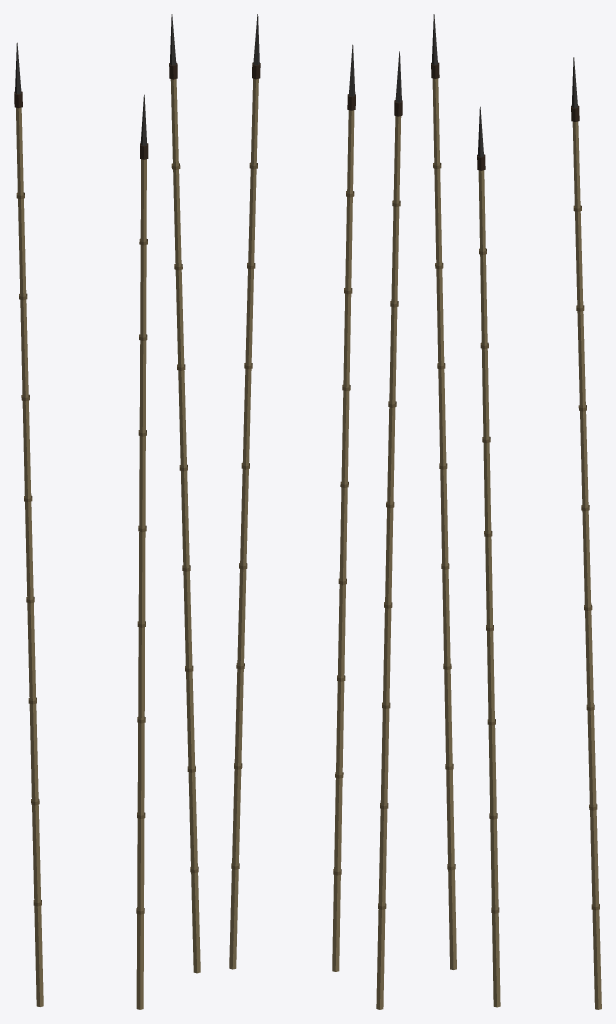
File: lanzas.glb
The picture shows the model from 3 angles, left to right: view 1: azimuth 30°, elevation 25°; view 2: azimuth 150°, elevation 25°; view 3: azimuth 330°, elevation 25°; orthographic projection.
Visible parts, largest first — view 1: Lanzas; view 2: Lanzas; view 3: Lanzas.
Boxes of the visible parts, box(x1,y1,x2,y2) form: Lanzas: box(14, 14, 200, 1009); Lanzas: box(229, 14, 402, 1009); Lanzas: box(431, 14, 601, 1009).
Size of what is drawn, in the model's own units: 1.12 by 5.76 by 0.4702.
